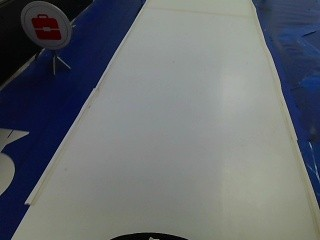company: (15, 1, 72, 47)
